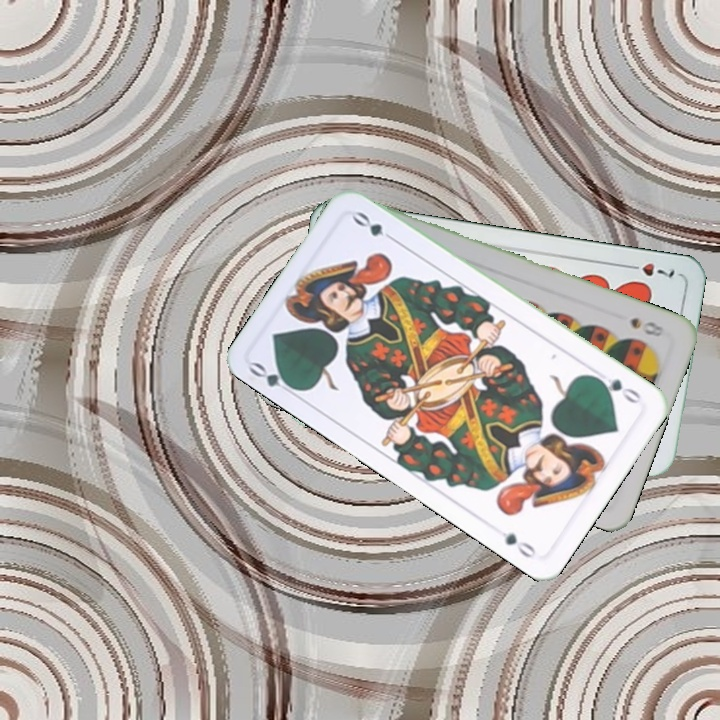GO: (245, 358, 302, 399), (590, 372, 643, 408)
H7: (621, 258, 678, 281)
S8: (626, 313, 667, 340)
